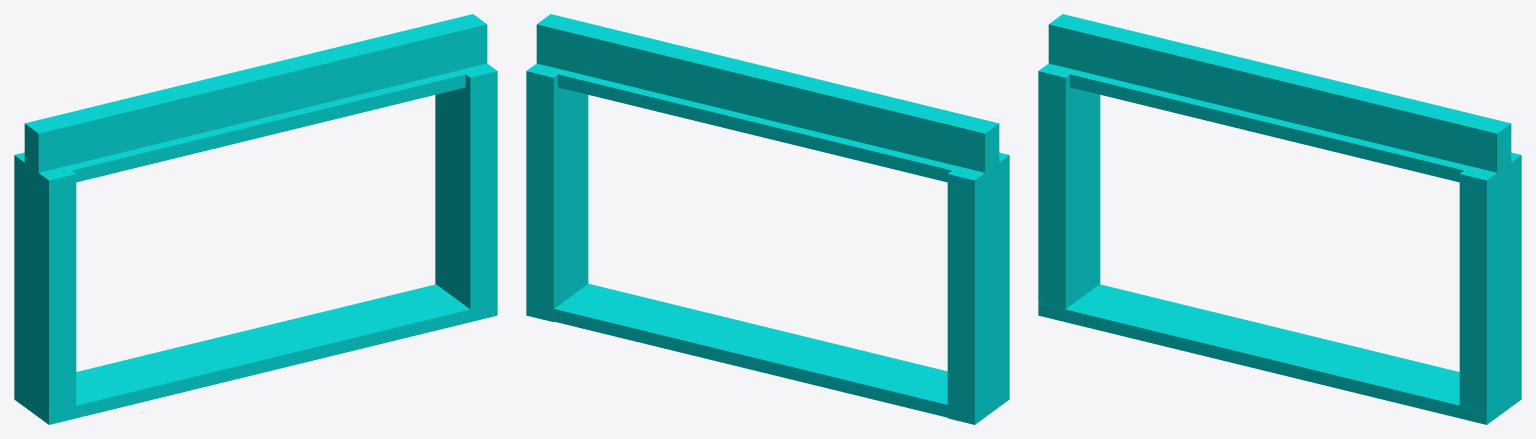
Rendered from SM_Bld_Wall_Door_Double_Large_02_Collision.fbx.
3 renders of one model, left to right at view 1: azimuth 30°, elevation 25°; view 2: azimuth 150°, elevation 25°; view 3: azimuth 330°, elevation 25°, orthographic.
Parts seen in each view (by area): view 1: SM_Bld_Wall_Door_Double_Large_02_Collision; view 2: SM_Bld_Wall_Door_Double_Large_02_Collision; view 3: SM_Bld_Wall_Door_Double_Large_02_Collision.
Part boxes in pixels (x1=…): SM_Bld_Wall_Door_Double_Large_02_Collision: x1=14, y1=14, x2=497, y2=424; SM_Bld_Wall_Door_Double_Large_02_Collision: x1=526, y1=14, x2=1009, y2=424; SM_Bld_Wall_Door_Double_Large_02_Collision: x1=1038, y1=14, x2=1521, y2=424.
Bounding box in the file's own units: 501 × 303 × 67.73.
